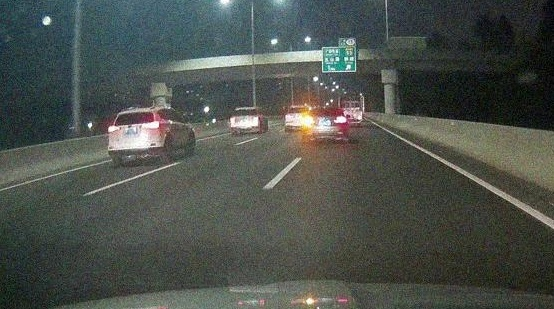L_light: (107, 125, 120, 133), (304, 117, 314, 124), (230, 118, 236, 121)
R_light: (146, 121, 160, 129), (334, 117, 346, 124), (252, 117, 259, 121)
T_light: (131, 112, 141, 114), (321, 109, 330, 111), (242, 109, 248, 111)
night-left: (303, 107, 348, 143)
night-no: (107, 107, 162, 163), (230, 107, 261, 134)
